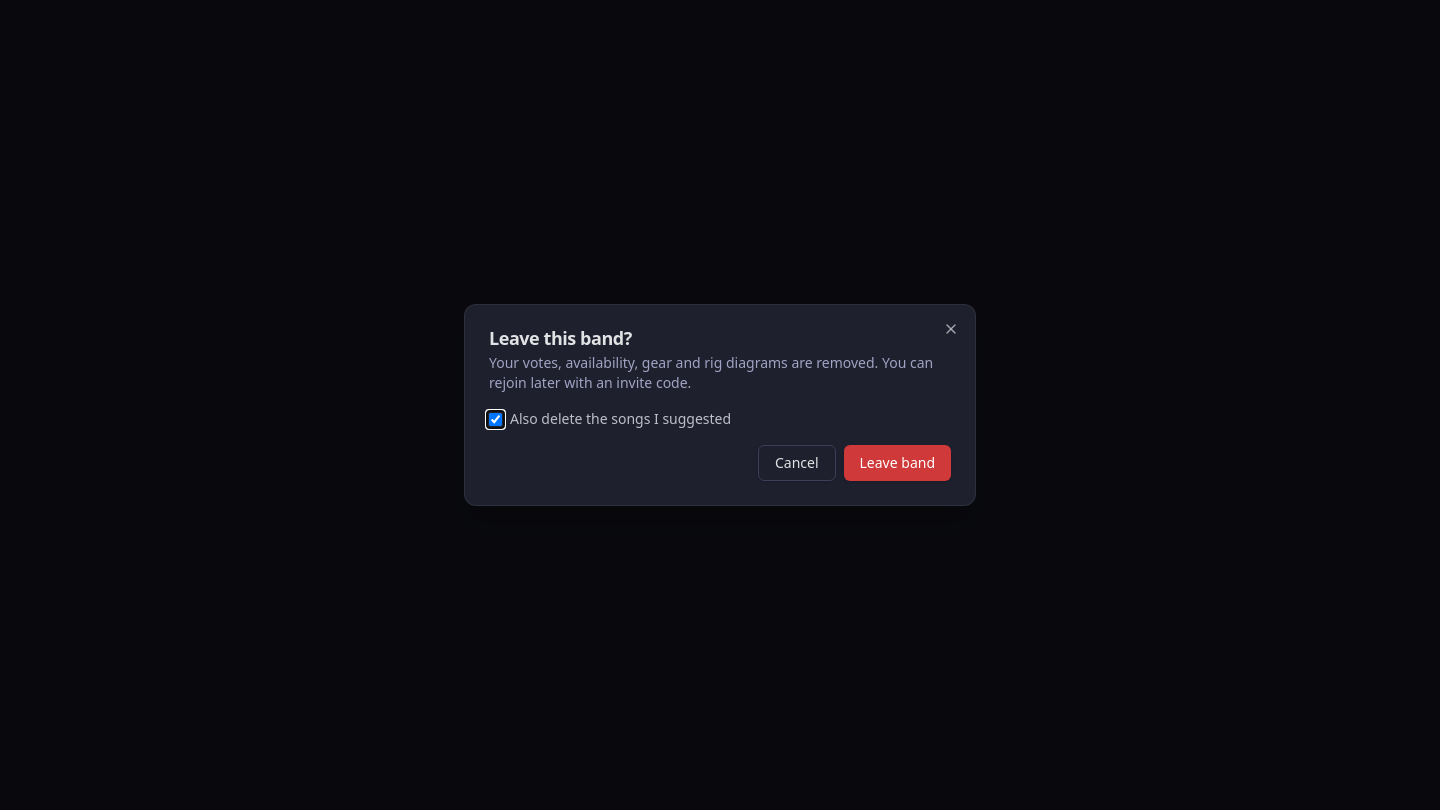
Test case: LeaveBandDialog › a failure to drop the band row after a successful cleanup is shown, and nothing is reported as left
This screenshot has width=1440, height=810.
Click the button "Leave band" at (897, 463), box [844,445,951,481]
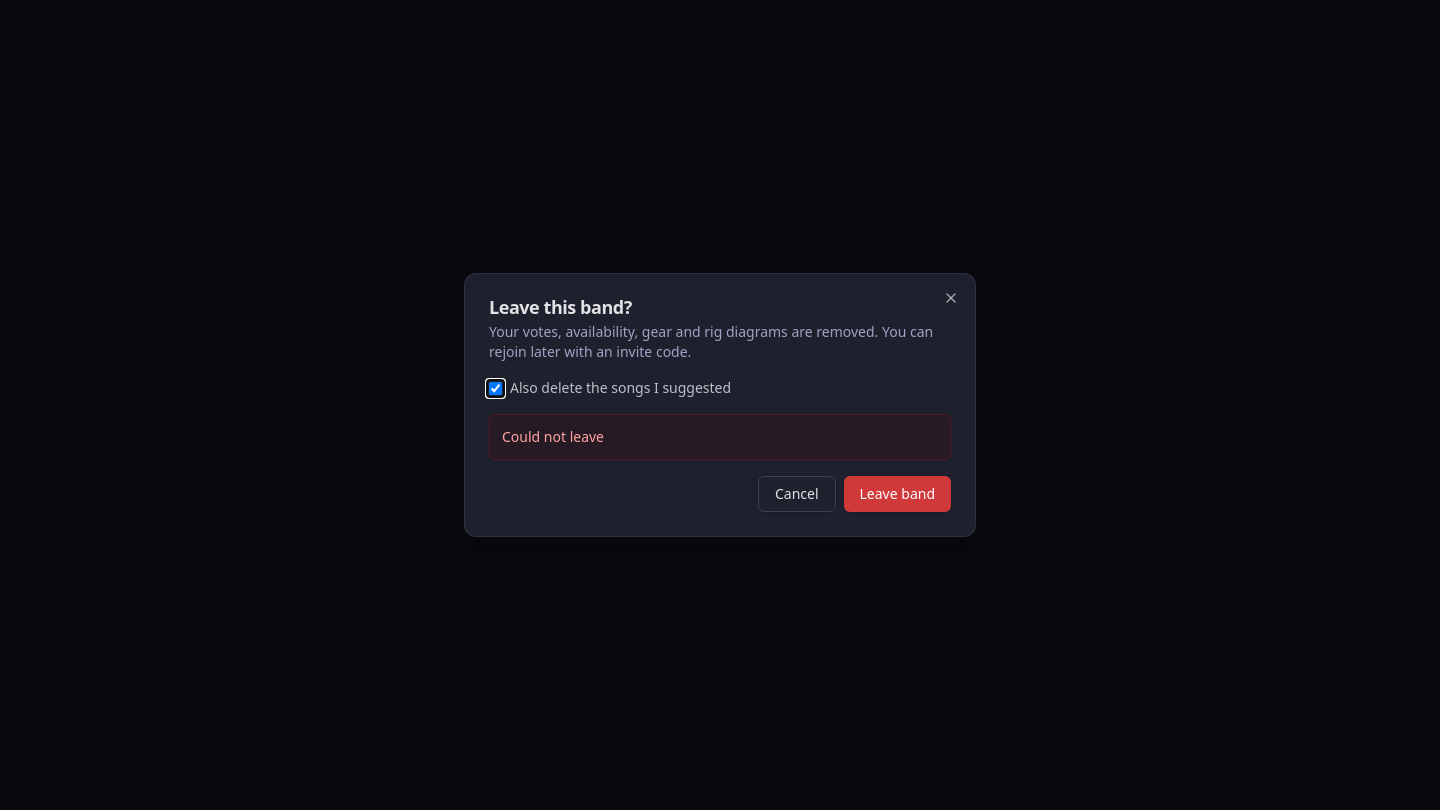
Check: the button "Leave band" is enabled, box [844,476,951,512]
Check: the message reads "Could not leave", box [502,427,604,446]
